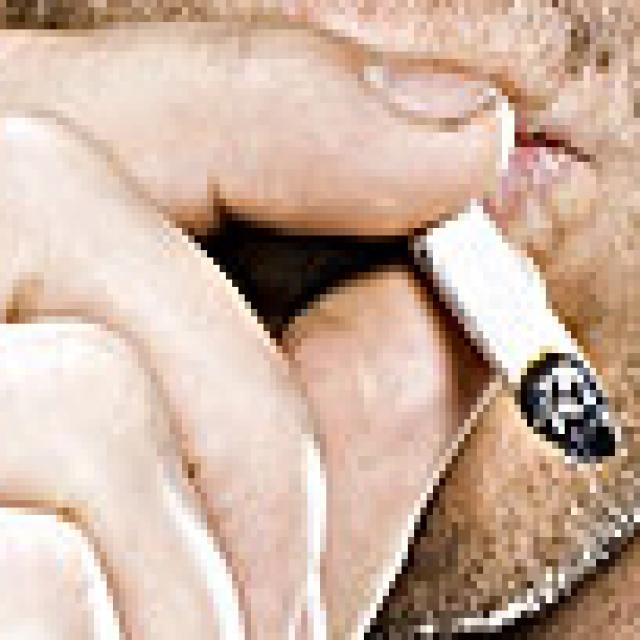smoking: (417, 191, 610, 459)
